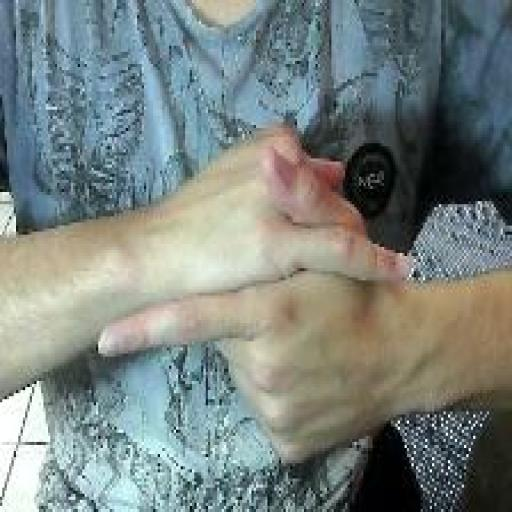U -hare-: (95, 120, 417, 468)
